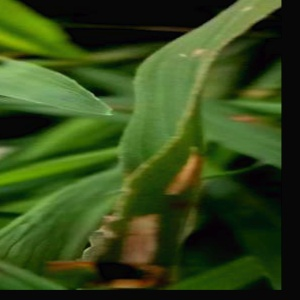Brown_Spot: (113, 199, 172, 272), (158, 144, 199, 195)
